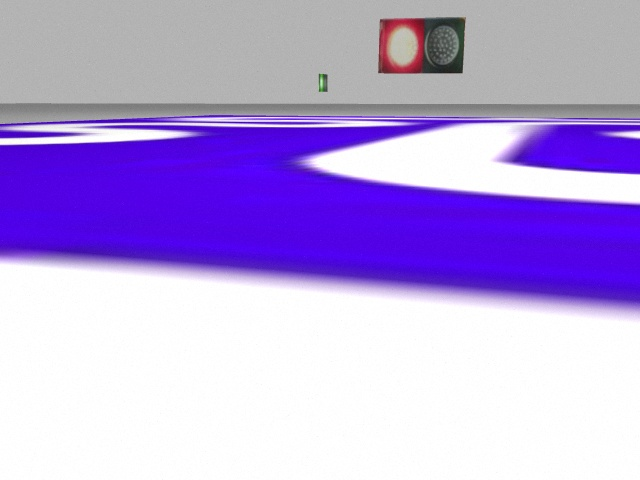red: (377, 20, 426, 72)
